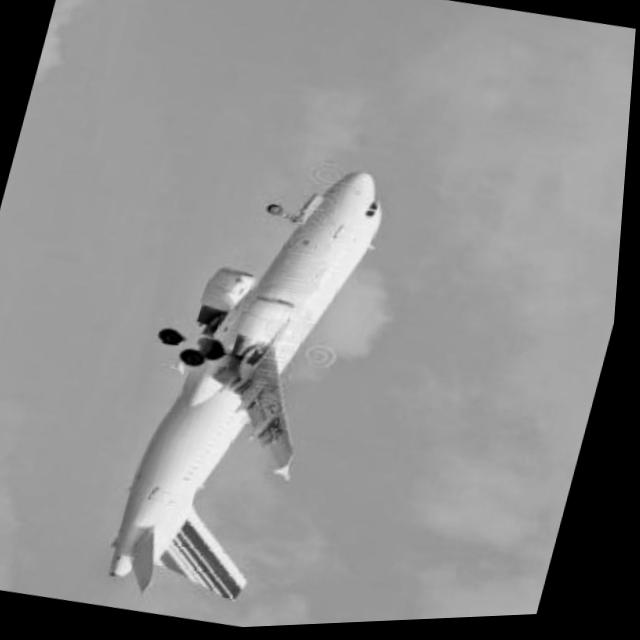aeroplane: (94, 134, 414, 626)
